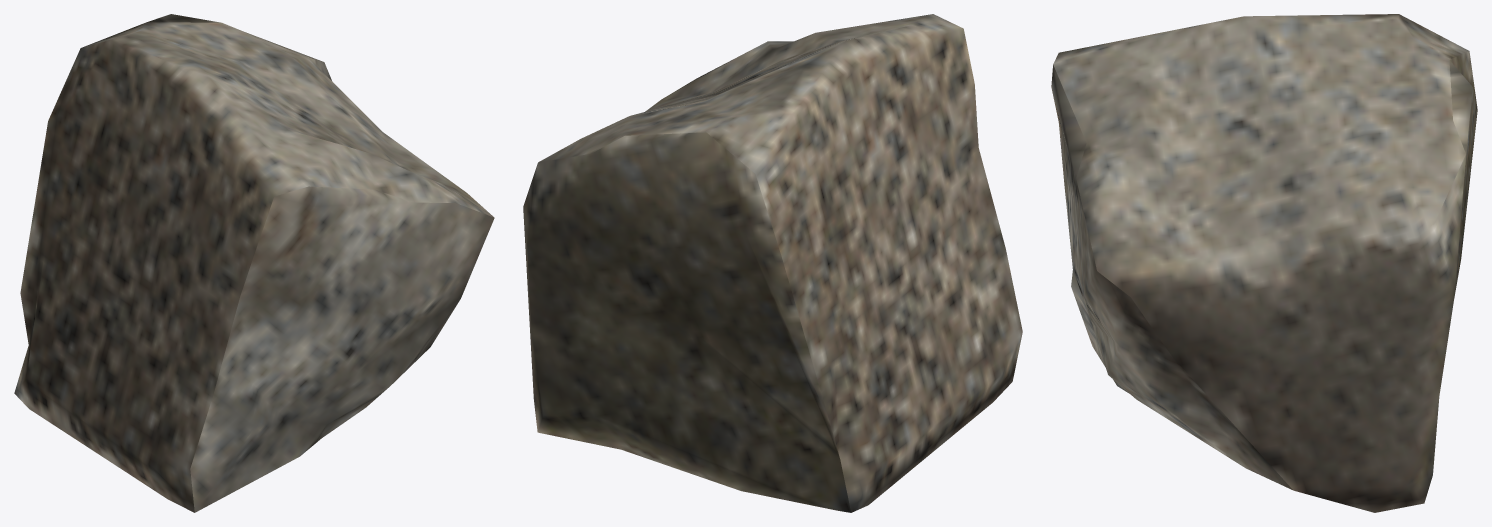
The model's file is Concrete_Rubble4.fbx.
3 renders of one model, left to right at view 1: azimuth 30°, elevation 25°; view 2: azimuth 150°, elevation 25°; view 3: azimuth 270°, elevation 25°, orthographic. The views are drawn at different scales.
Visible parts, largest first — view 1: Concrete_Rubble4; view 2: Concrete_Rubble4; view 3: Concrete_Rubble4.
Boxes of the visible parts, x1,y1,x2,y2 form: Concrete_Rubble4: [14, 14, 494, 512]; Concrete_Rubble4: [523, 14, 1022, 512]; Concrete_Rubble4: [1051, 14, 1477, 512].
Size of the model in its own units: 5.75 by 6.19 by 6.11.
